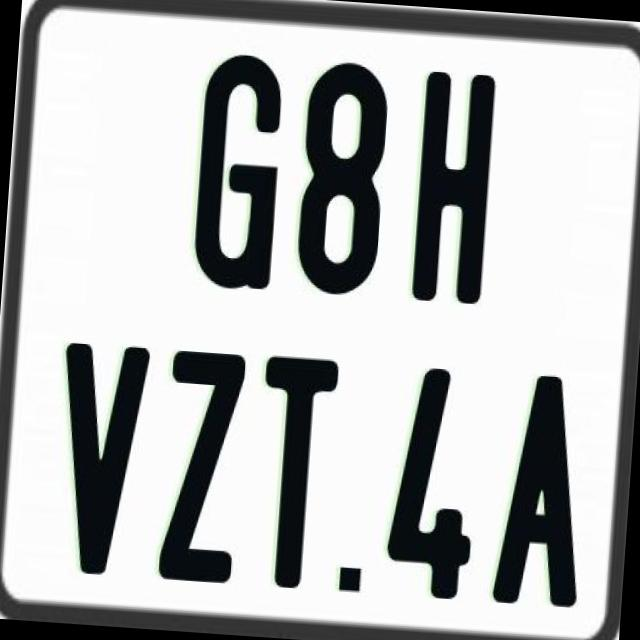4: (382, 362, 481, 604)
8: (294, 56, 391, 301)
A: (488, 368, 594, 610)
G: (190, 52, 285, 292)
H: (411, 66, 497, 302)
T: (246, 352, 342, 594)
V: (46, 338, 150, 582)
Z: (154, 349, 248, 585)
